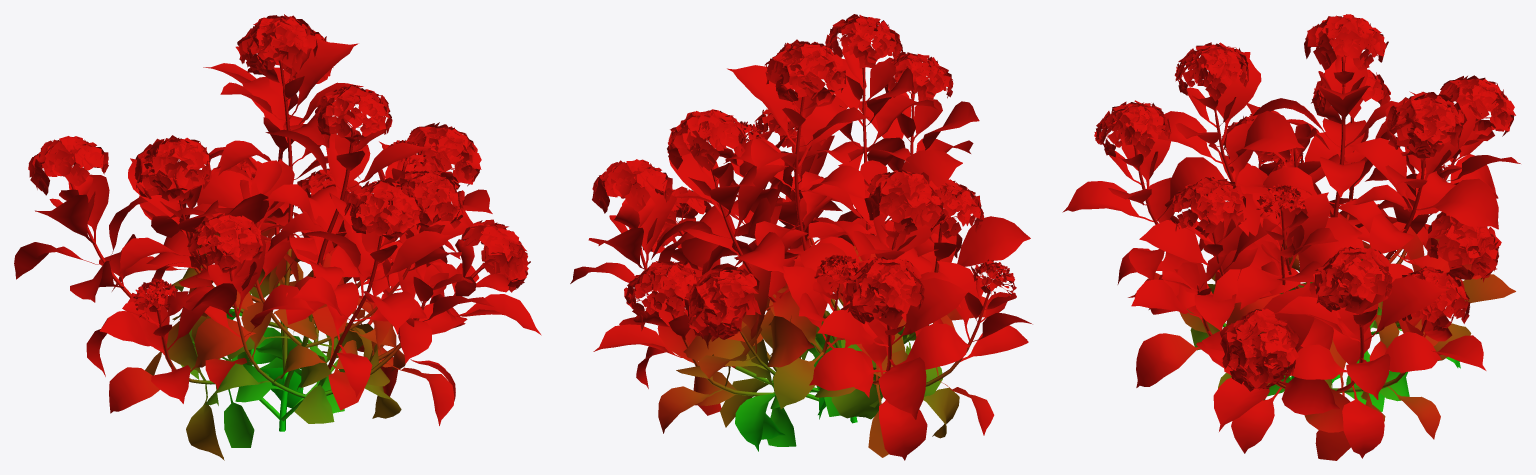
Rendered from Var2_LOD2.fbx.
The picture shows the model from 3 angles, left to right: view 1: azimuth 30°, elevation 25°; view 2: azimuth 150°, elevation 25°; view 3: azimuth 270°, elevation 25°; orthographic projection.
Parts seen in each view (by area): view 1: _a4qq_Var2_LOD2; view 2: _a4qq_Var2_LOD2; view 3: _a4qq_Var2_LOD2.
Boxes of the visible parts, bbox=[...] form: _a4qq_Var2_LOD2: bbox=[14, 14, 541, 460]; _a4qq_Var2_LOD2: bbox=[570, 14, 1032, 460]; _a4qq_Var2_LOD2: bbox=[1062, 14, 1520, 460].
Size of the model in its own units: 153 by 138 by 146.
